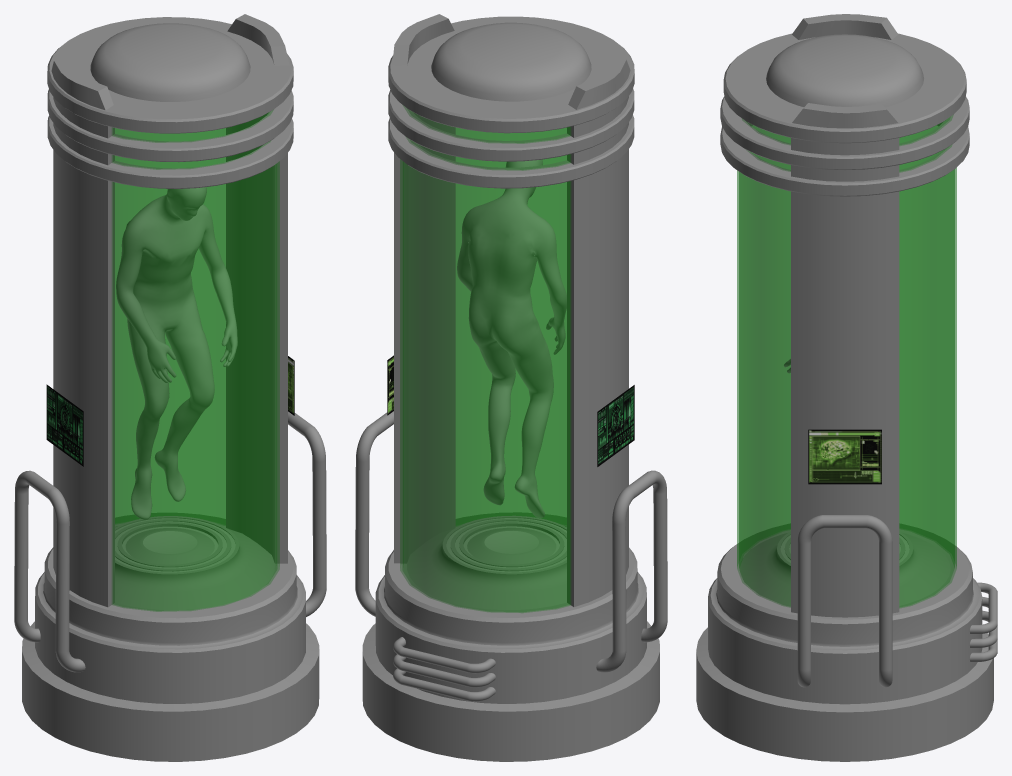
The model's file is stasis_chamber_human_noanim.fbx.
3 views of the same model, side by side, from view 1: azimuth 30°, elevation 25°; view 2: azimuth 150°, elevation 25°; view 3: azimuth 270°, elevation 25° (orthographic).
Parts seen in each view (by area): view 1: Chamber, Glass, human; view 2: Chamber, Glass, human; view 3: Chamber, Glass.
Boxes of the visible parts, x1,y1,x2,y2 form: Chamber: (14, 14, 326, 761); Glass: (112, 110, 279, 611); human: (116, 187, 237, 519); Chamber: (355, 14, 667, 761); Glass: (400, 105, 570, 612); human: (457, 159, 566, 517); Chamber: (696, 14, 997, 761); Glass: (737, 115, 956, 607).
Size of the model in its own units: 170 by 393 by 167.
5 materials, 1 textured.
